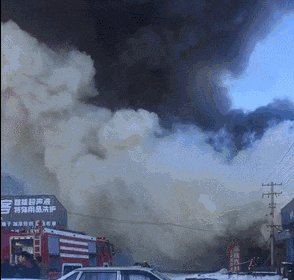smoke: (2, 2, 284, 189)
